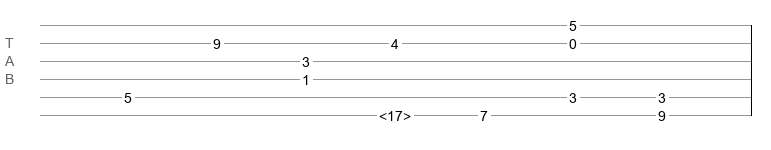0: (569, 36, 577, 46)
1: (302, 72, 310, 82)
3: (302, 54, 310, 64), (569, 90, 577, 100), (658, 90, 666, 100)
4: (391, 36, 399, 46)
5: (124, 90, 132, 100), (569, 18, 577, 28)
7: (480, 108, 488, 118)
9: (213, 36, 221, 46), (658, 108, 666, 118)
harmonic: (379, 108, 411, 118)
